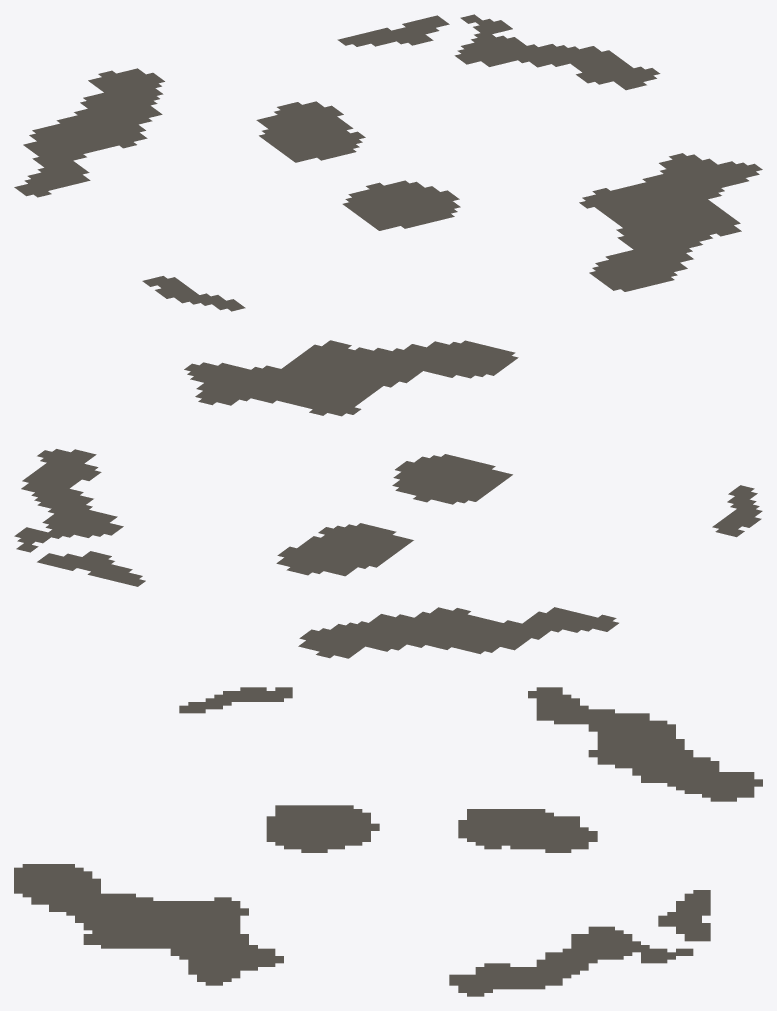
Rendered from Isl-flat6-NoBuildArea.fbx.
3 views of the same model, one above another, from view 1: azimuth 30°, elevation 25°; view 2: azimuth 150°, elevation 25°; view 3: azimuth 270°, elevation 25° (orthographic). The views are drawn at different scales.
Parts seen in each view (by area): view 1: Isl-flat6-NoBuildArea; view 2: Isl-flat6-NoBuildArea; view 3: Isl-flat6-NoBuildArea.
Part boxes in pixels (bbox=[...]): Isl-flat6-NoBuildArea: bbox=[14, 14, 762, 311]; Isl-flat6-NoBuildArea: bbox=[14, 340, 762, 658]; Isl-flat6-NoBuildArea: bbox=[14, 687, 762, 996].
Size of the model in its own units: 84 by 0 by 86.
